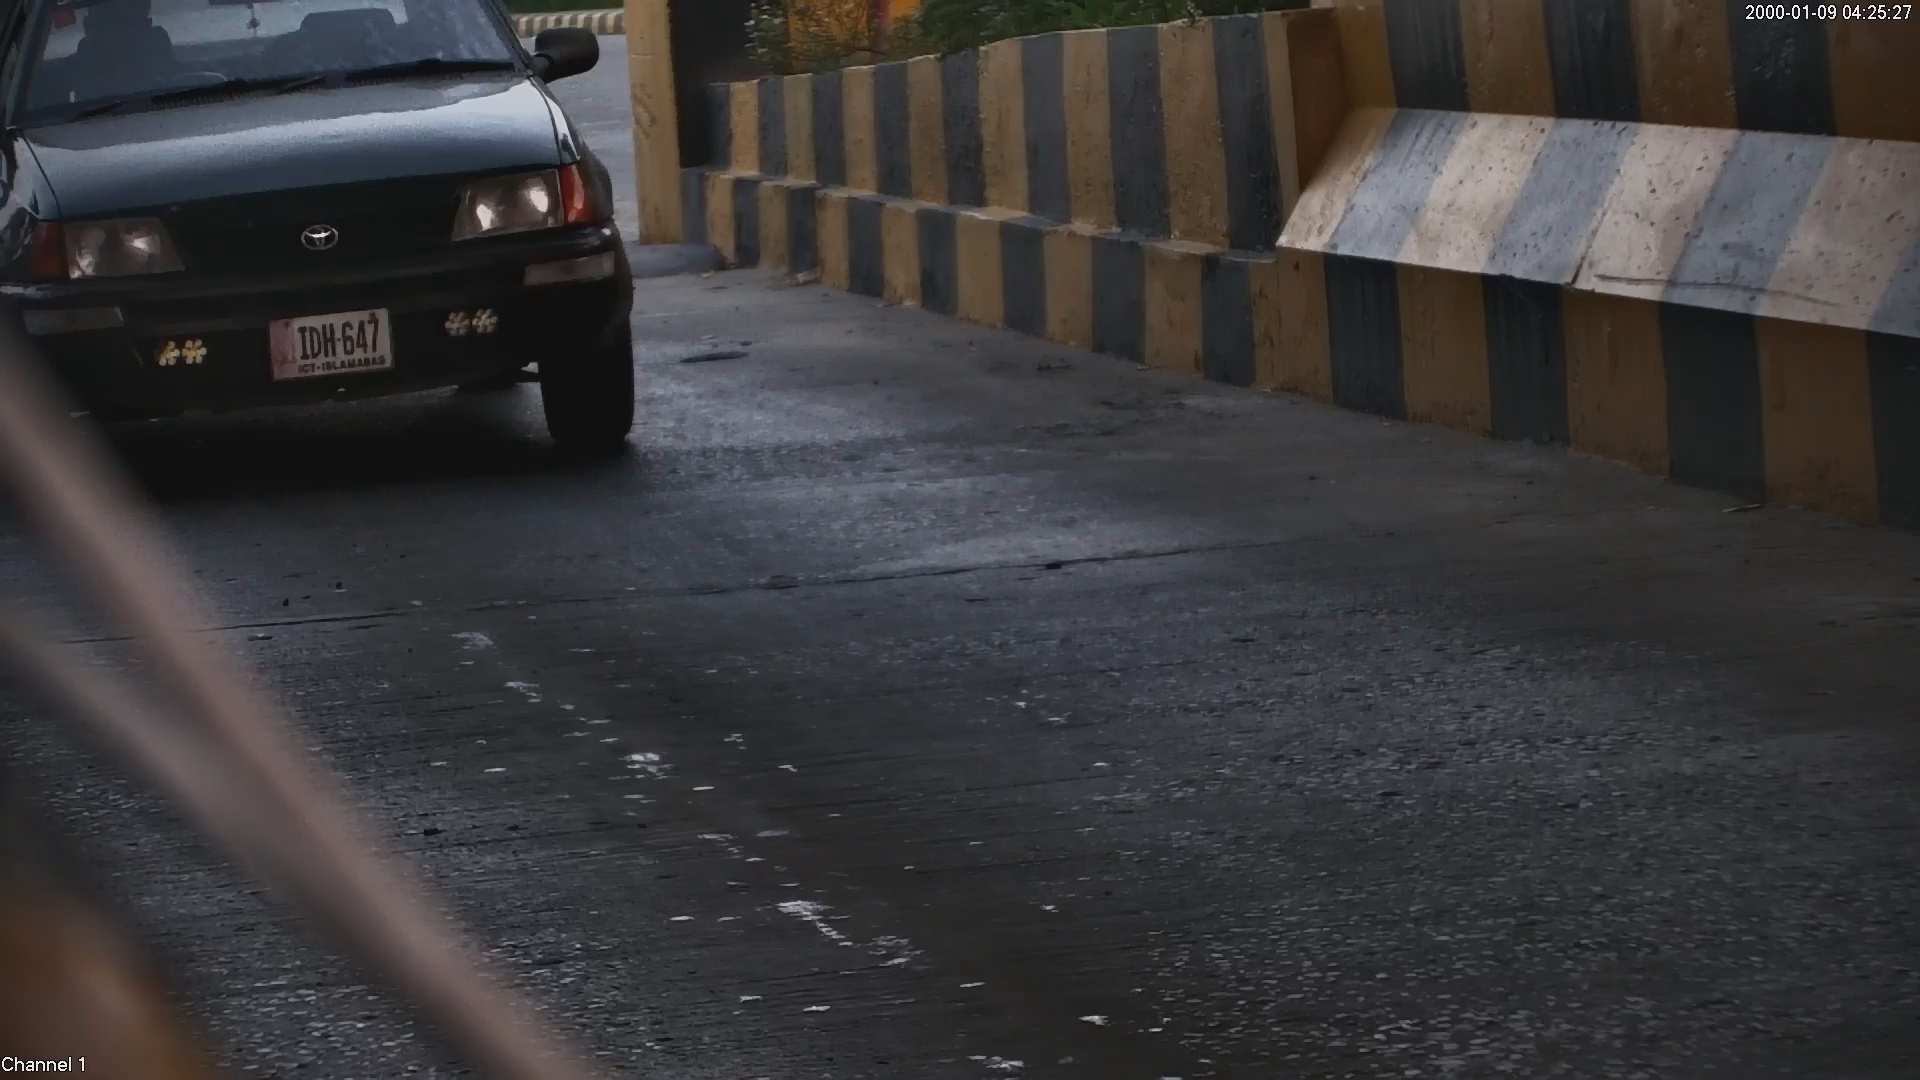Number_Plate: (254, 307, 408, 383)
